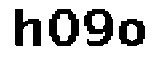0: (47, 7, 81, 51)
9: (82, 4, 116, 51)
h: (10, 6, 43, 51)
o: (118, 16, 147, 50)
